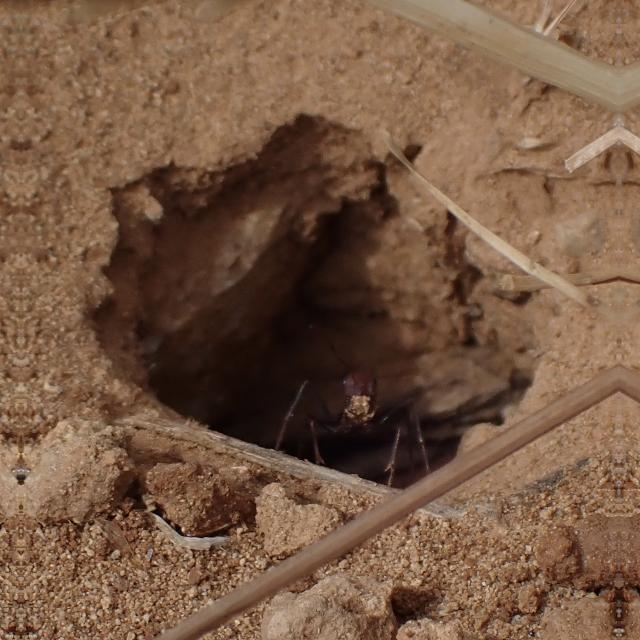Cataglyphis: (284, 355, 420, 463)
